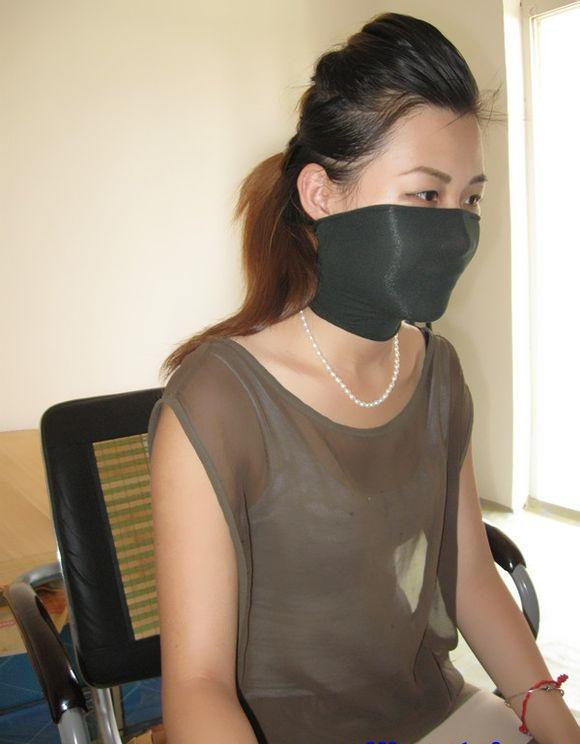OK: (309, 145, 485, 334)
